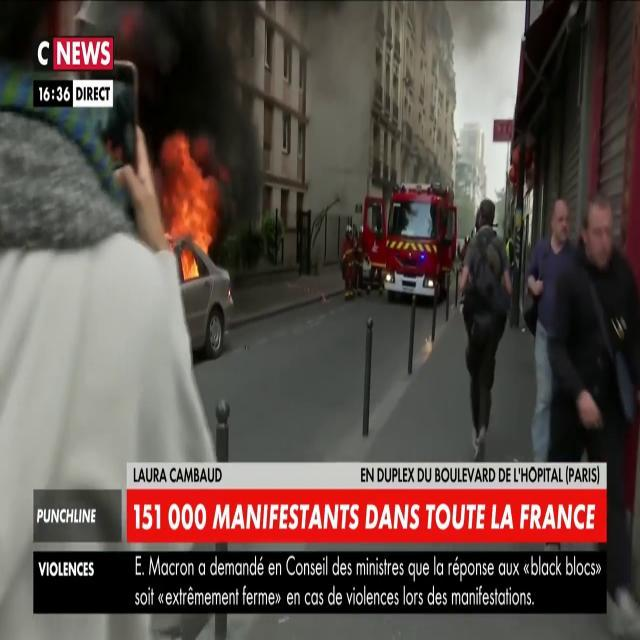Fire: (160, 129, 222, 279)
Smoke: (134, 2, 268, 225)
